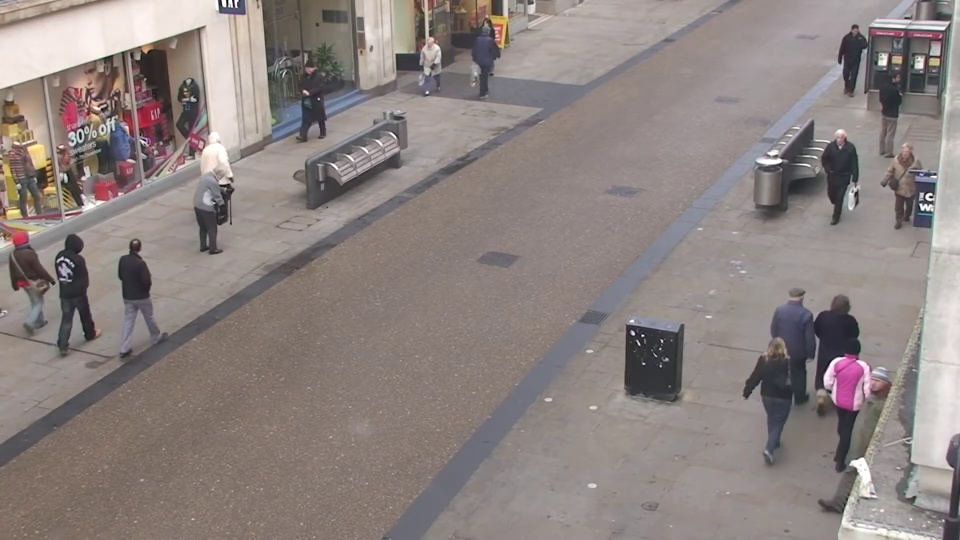pedestrian: (829, 358, 890, 521), (822, 321, 880, 473), (748, 322, 802, 473), (812, 283, 866, 424), (7, 219, 67, 340), (773, 275, 824, 414), (60, 224, 115, 345), (124, 226, 176, 348), (877, 139, 922, 244), (203, 161, 244, 267), (816, 126, 855, 226), (208, 126, 246, 222), (872, 67, 911, 154), (833, 23, 866, 98), (291, 60, 321, 139), (413, 34, 439, 106), (478, 22, 503, 92), (471, 15, 495, 83)
